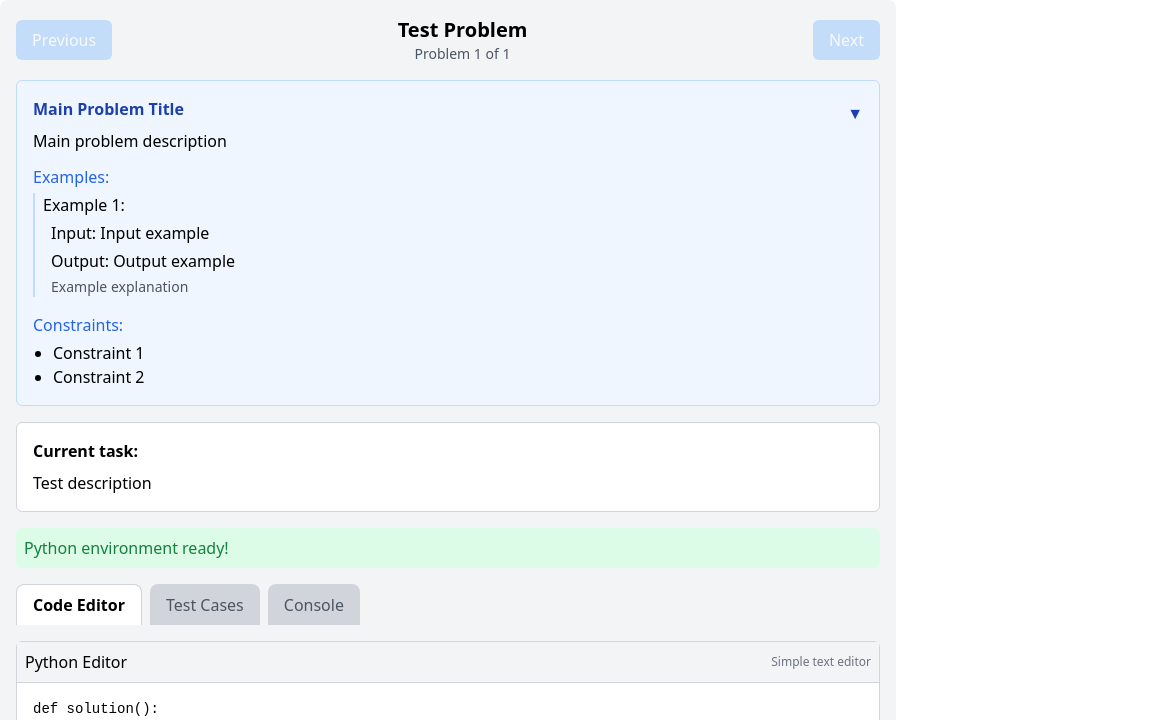
Test: MainProblemDescription Component › should toggle visibility when clicked
Expected: the element with test id "main-problem-content" is shown, left=33, top=129, right=863, bottom=389
Click the header to collapse
Click the element with test id "main-problem-header" at (108, 109), box left=33, top=97, right=863, bottom=129
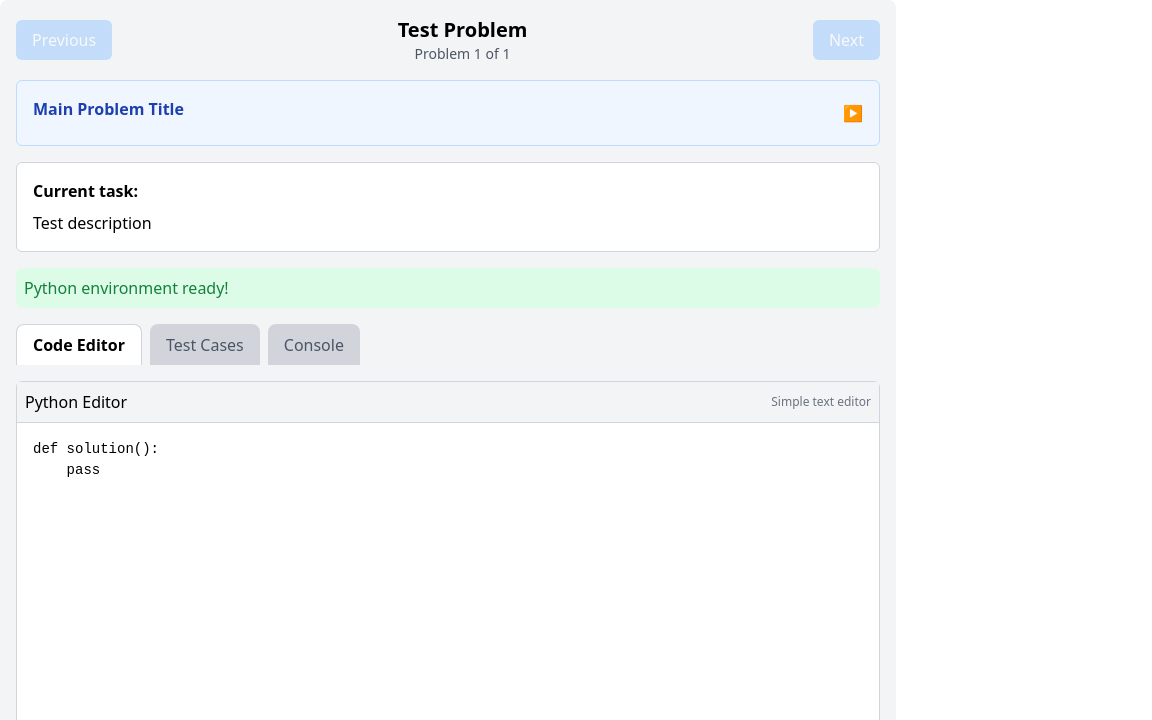
Expected: the element with test id "main-problem-content" is gone
Click again to expand
Click the element with test id "main-problem-header" at (108, 109), box left=33, top=97, right=863, bottom=129
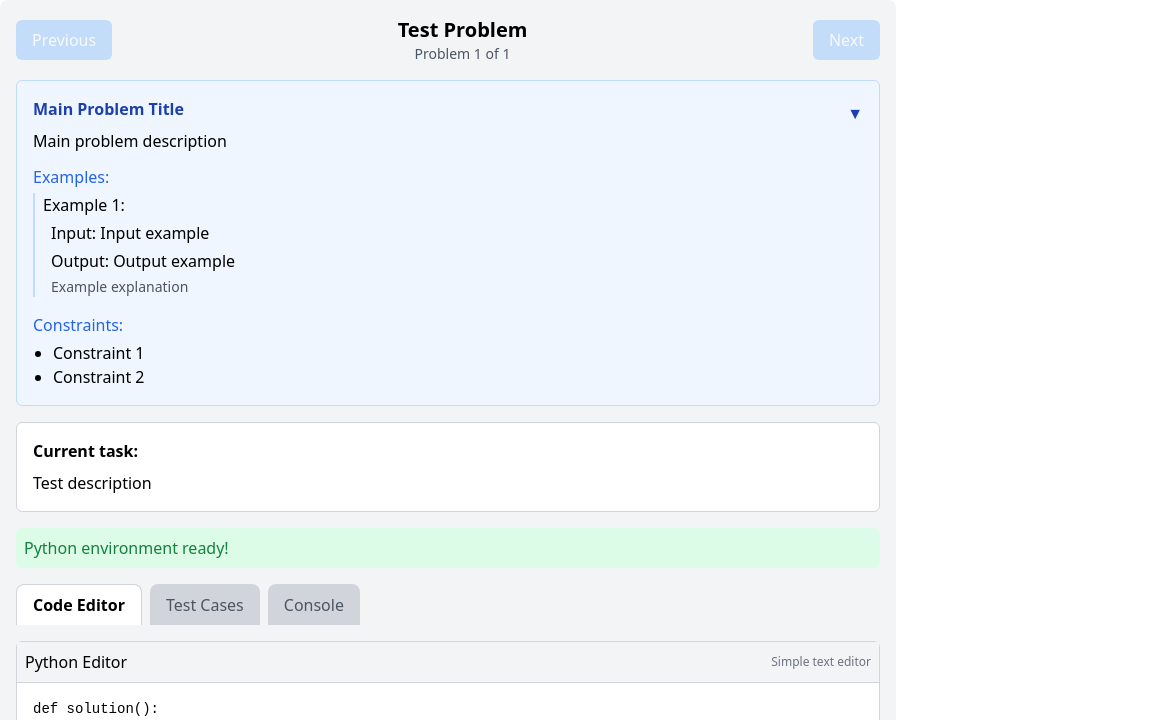
Expected: the element with test id "main-problem-content" is shown, left=33, top=129, right=863, bottom=389
